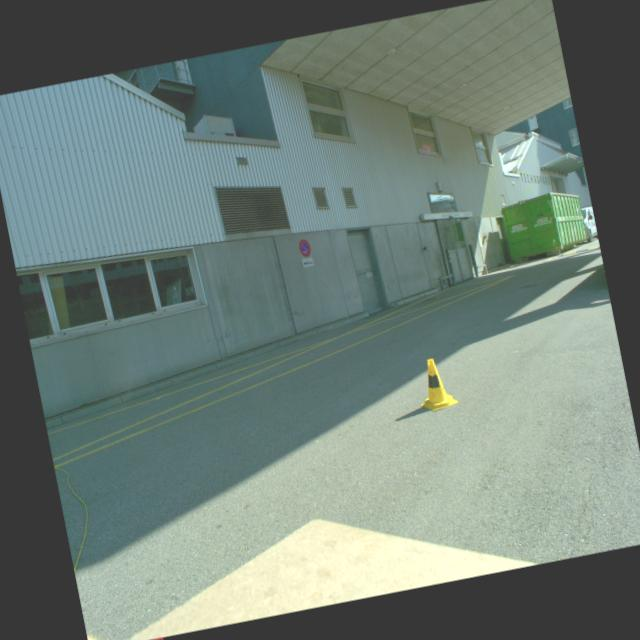yellow_cone: (412, 356, 460, 414)
